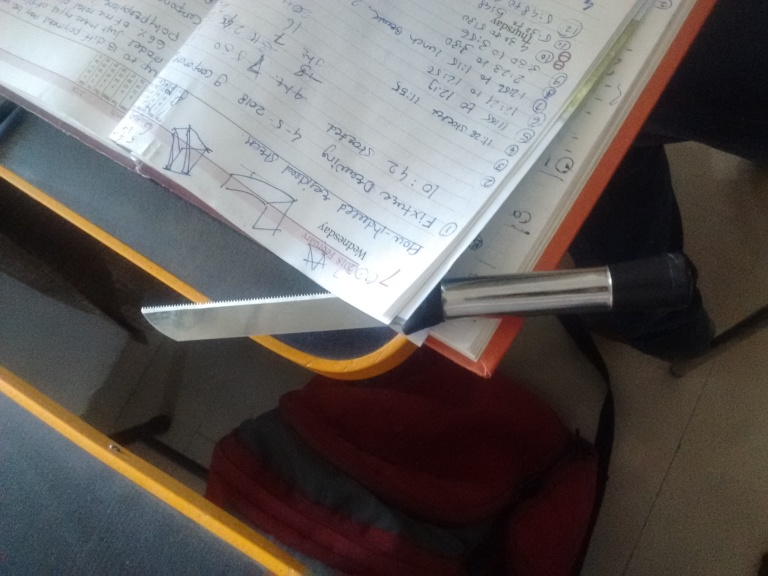knife: (130, 252, 699, 343)
